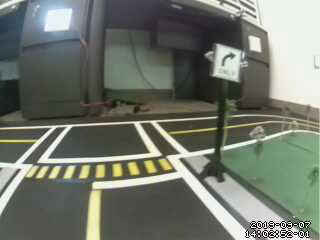Right_only_sign: (208, 34, 238, 82)
